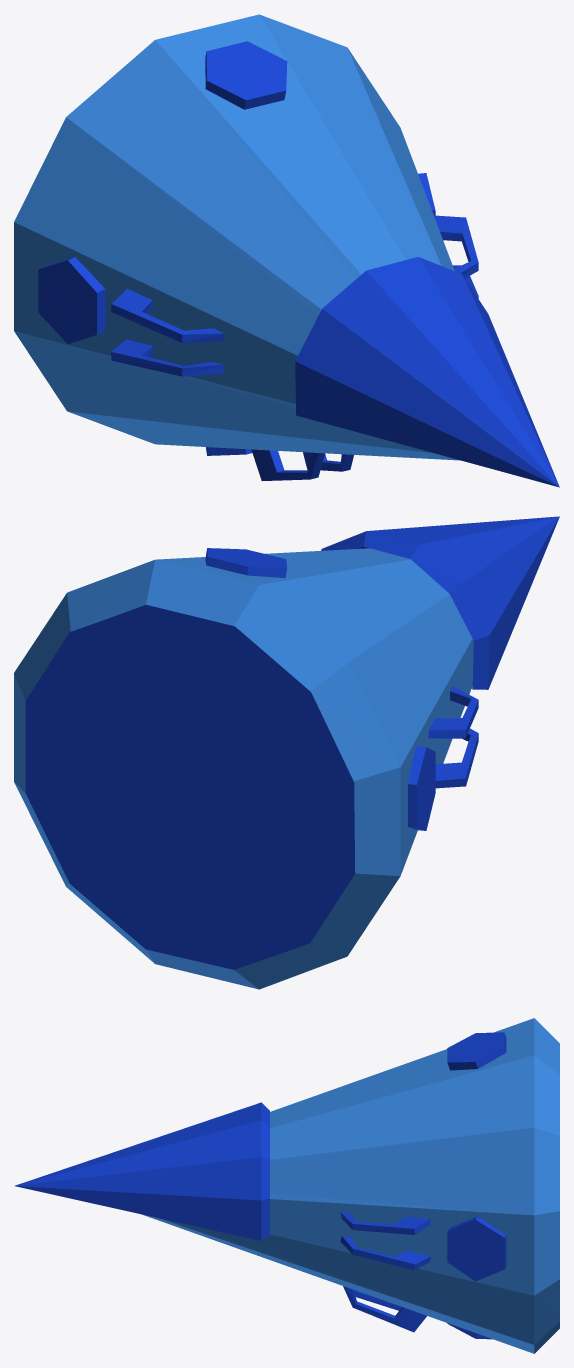
File: drill.FBX
The picture shows the model from 3 angles, top to bottom: view 1: azimuth 30°, elevation 25°; view 2: azimuth 150°, elevation 25°; view 3: azimuth 270°, elevation 25°; orthographic projection. The views are drawn at different scales.
Visible parts, largest first — view 1: VIFS002, VIFS001; view 2: VIFS001, VIFS002; view 3: VIFS002, VIFS001.
Boxes of the visible parts, <box> form: VIFS002: <box>14,14,460,460</box>; VIFS001: <box>38,41,559,487</box>; VIFS001: <box>25,516,559,969</box>; VIFS002: <box>14,548,473,989</box>; VIFS002: <box>143,1018,559,1353</box>; VIFS001: <box>14,1032,506,1339</box>.
Bounding box in the file's own units: 0.386 × 0.386 × 0.64.
